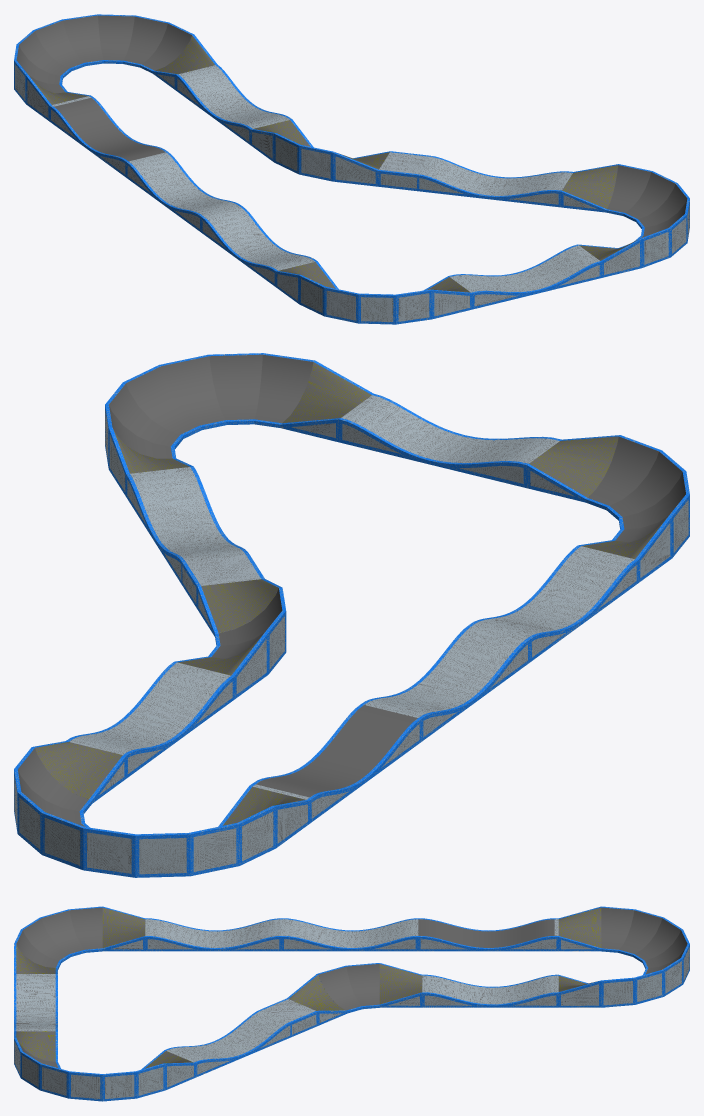
Rendered from track02b.obj.
3 views of the same model, one above another, from view 1: azimuth 30°, elevation 25°; view 2: azimuth 150°, elevation 25°; view 3: azimuth 270°, elevation 25° (orthographic). The views are drawn at different scales.
Visible parts, largest first — view 1: Mesh1 PT_Wave_4000_HLH_1_1 Model, Mesh104 PT_Wave_4000_HLH4 Model, Mesh27 PT_Wave_4000_HLH_2_1 Model, Mesh58 PT_Wave_4000_HLH2 Model, Mesh85 PT_Wave_4000_HLH3 Model, Mesh45 PT_Wave_4000_HLH1 Model, Mesh177 Group22 PT_INT_1250_M3 Model, Mesh31 Group4 PT_ARC_22_5_R5200_3 Model, Mesh64 Group7 PT_ARC_22_5_R5200_6 Model, Mesh204 Group26 PT_ARC_22_5_R5200_20 Model, Mesh7 Group1 PT_ARC_22_5_R5200_1 Model, Mesh91 Group10 PT_ARC_22_5_R5200_9 Model (+23 smaller); view 2: Mesh1 PT_Wave_4000_HLH_1_1 Model, Mesh104 PT_Wave_4000_HLH4 Model, Mesh27 PT_Wave_4000_HLH_2_1 Model, Mesh85 PT_Wave_4000_HLH3 Model, Mesh45 PT_Wave_4000_HLH1 Model, Mesh58 PT_Wave_4000_HLH2 Model, Mesh158 Group19 PT_INT_1250_M1 Model, Mesh98 Group11 PT_INT_1250_2 Model, Mesh190 Group24 PT_ARC_22_5_R5200_18 Model, Mesh78 Group9 PT_ARC_22_5_R5200_8 Model, Mesh183 Group23 PT_ARC_22_5_R5200_17 Model, Mesh117 Group13 PT_INT_1250_3 Model (+28 smaller); view 3: Mesh1 PT_Wave_4000_HLH_1_1 Model, Mesh27 PT_Wave_4000_HLH_2_1 Model, Mesh58 PT_Wave_4000_HLH2 Model, Mesh85 PT_Wave_4000_HLH3 Model, Mesh45 PT_Wave_4000_HLH1 Model, Mesh104 PT_Wave_4000_HLH4 Model, Mesh14 Group2 PT_INT_1250_1 Model, Mesh217 Group28 PT_INT_1250_M4 Model, Mesh211 Group27 PT_INT_1250_4 Model, Mesh110 Group12 PT_ARC_22_5_R5200_10 Model, Mesh130 Group15 PT_ARC_22_5_R5200_12 Model, Mesh151 Group18 PT_ARC_22_5_R5200_15 Model (+25 smaller).
Part boxes in pixels (left/top/right/bottom): Mesh1 PT_Wave_4000_HLH_1_1 Model: left=378, top=151, right=573, bottom=207; Mesh104 PT_Wave_4000_HLH4 Model: left=448, top=244, right=601, bottom=309; Mesh27 PT_Wave_4000_HLH_2_1 Model: left=49, top=95, right=167, bottom=177; Mesh58 PT_Wave_4000_HLH2 Model: left=126, top=152, right=242, bottom=232; Mesh85 PT_Wave_4000_HLH3 Model: left=201, top=206, right=317, bottom=286; Mesh45 PT_Wave_4000_HLH1 Model: left=176, top=64, right=291, bottom=144; Mesh177 Group22 PT_INT_1250_M3 Model: left=562, top=165, right=617, bottom=208; Mesh31 Group4 PT_ARC_22_5_R5200_3 Model: left=98, top=15, right=134, bottom=60; Mesh64 Group7 PT_ARC_22_5_R5200_6 Model: left=63, top=15, right=103, bottom=62; Mesh204 Group26 PT_ARC_22_5_R5200_20 Model: left=607, top=165, right=650, bottom=212; Mesh7 Group1 PT_ARC_22_5_R5200_1 Model: left=124, top=16, right=167, bottom=64; Mesh91 Group10 PT_ARC_22_5_R5200_9 Model: left=35, top=20, right=84, bottom=68; Mesh1 PT_Wave_4000_HLH_1_1 Model: left=126, top=466, right=264, bottom=608; Mesh104 PT_Wave_4000_HLH4 Model: left=339, top=394, right=561, bottom=488; Mesh27 PT_Wave_4000_HLH_2_1 Model: left=249, top=704, right=421, bottom=823; Mesh85 PT_Wave_4000_HLH3 Model: left=469, top=545, right=638, bottom=662; Mesh45 PT_Wave_4000_HLH1 Model: left=66, top=661, right=234, bottom=778; Mesh58 PT_Wave_4000_HLH2 Model: left=361, top=625, right=529, bottom=741; Mesh158 Group19 PT_INT_1250_M1 Model: left=529, top=436, right=618, bottom=497; Mesh98 Group11 PT_INT_1250_2 Model: left=35, top=742, right=122, bottom=799; Mesh190 Group24 PT_ARC_22_5_R5200_18 Model: left=209, top=354, right=262, bottom=419; Mesh78 Group9 PT_ARC_22_5_R5200_8 Model: left=255, top=354, right=313, bottom=423; Mesh183 Group23 PT_ARC_22_5_R5200_17 Model: left=161, top=356, right=225, bottom=425; Mesh117 Group13 PT_INT_1250_3 Model: left=283, top=362, right=371, bottom=422; Mesh1 PT_Wave_4000_HLH_1_1 Model: left=165, top=998, right=317, bottom=1077; Mesh27 PT_Wave_4000_HLH_2_1 Model: left=418, top=918, right=558, bottom=951; Mesh58 PT_Wave_4000_HLH2 Model: left=281, top=918, right=418, bottom=951; Mesh85 PT_Wave_4000_HLH3 Model: left=145, top=918, right=281, bottom=951; Mesh45 PT_Wave_4000_HLH1 Model: left=422, top=974, right=558, bottom=1007; Mesh104 PT_Wave_4000_HLH4 Model: left=14, top=974, right=57, bottom=1031; Mesh14 Group2 PT_INT_1250_1 Model: left=102, top=907, right=145, bottom=947; Mesh217 Group28 PT_INT_1250_M4 Model: left=558, top=907, right=601, bottom=947; Mesh211 Group27 PT_INT_1250_4 Model: left=379, top=964, right=422, bottom=1004; Mesh110 Group12 PT_ARC_22_5_R5200_10 Model: left=601, top=907, right=634, bottom=949; Mesh130 Group15 PT_ARC_22_5_R5200_12 Model: left=69, top=907, right=102, bottom=949; Mesh151 Group18 PT_ARC_22_5_R5200_15 Model: left=346, top=964, right=379, bottom=1005.
Bounding box in the file's own units: 11700 × 854 × 19820.
